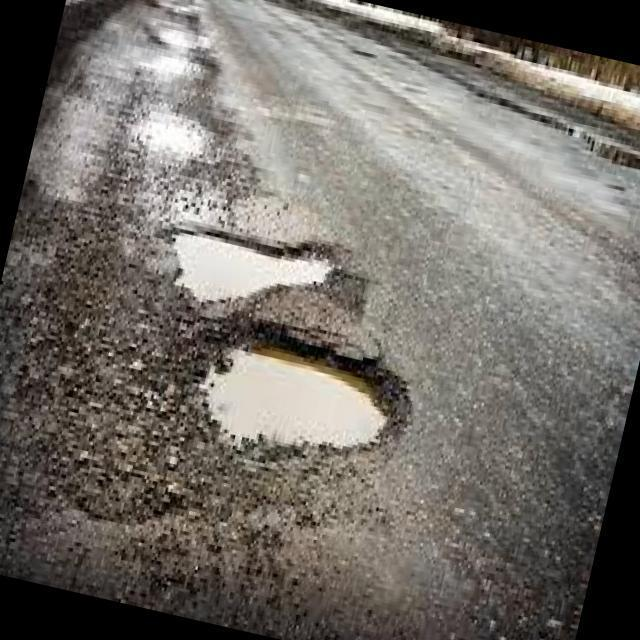Pothole: (202, 347, 390, 456), (171, 231, 332, 299)
